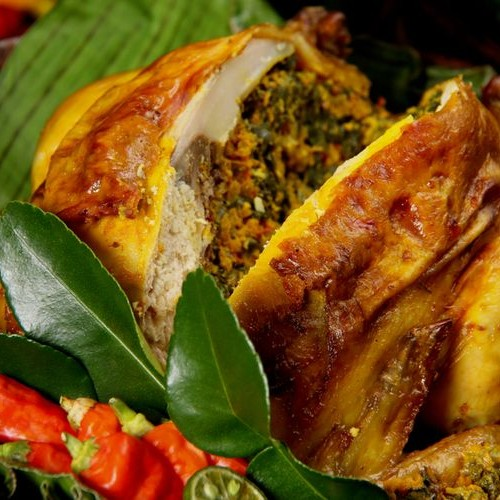ayam betutu: (286, 151, 486, 436)
